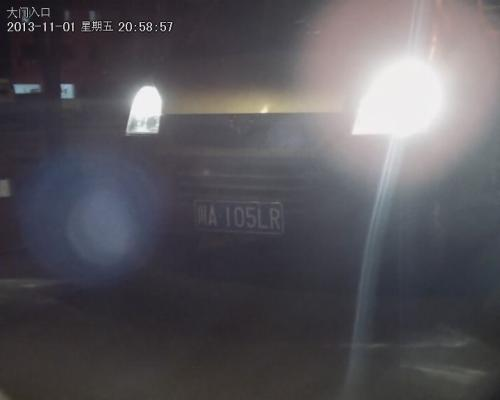Carplate: (186, 192, 290, 241)
